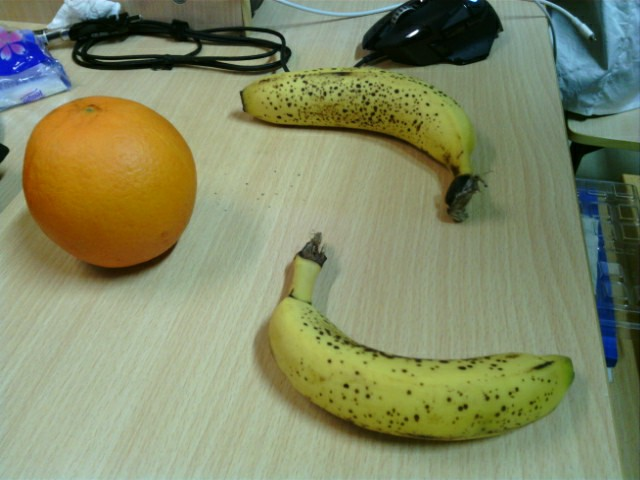normal_banana: (266, 234, 578, 441), (238, 67, 482, 224)
normal_orange: (24, 97, 197, 267)
